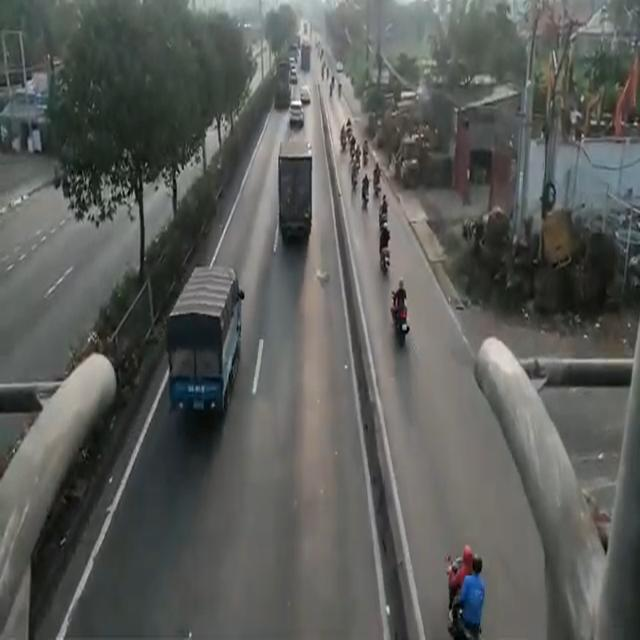car: (290, 100, 304, 126)
motor: (444, 556, 478, 632), (391, 287, 408, 345), (379, 228, 388, 272), (361, 173, 372, 207), (374, 161, 381, 199)
truck: (170, 264, 240, 412), (276, 135, 317, 247), (274, 62, 289, 111)
